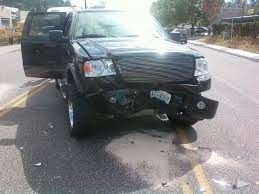Dent: (90, 83, 203, 125)
